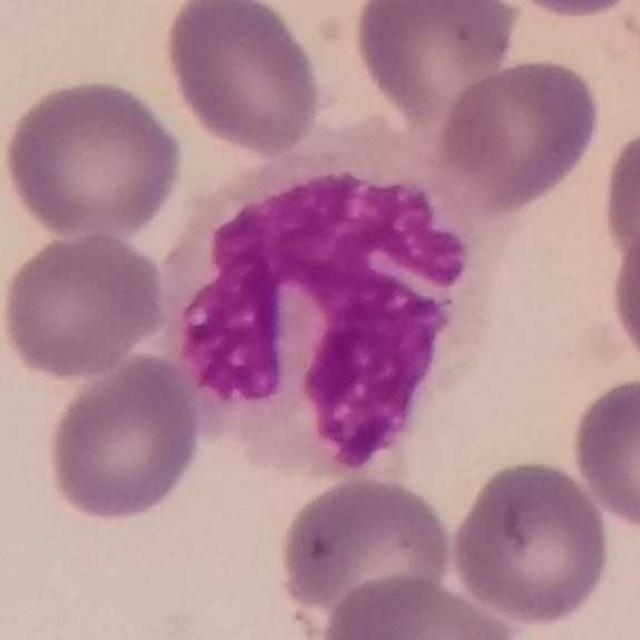Monocyte: (167, 114, 519, 486)
RBC: (0, 74, 187, 242), (446, 454, 614, 629), (41, 350, 206, 526), (273, 472, 455, 631), (432, 52, 605, 210), (159, 0, 326, 157), (1, 227, 170, 382), (347, 0, 520, 124), (315, 571, 529, 640), (565, 373, 640, 535), (595, 116, 640, 282), (604, 212, 640, 386), (473, 0, 640, 21)
